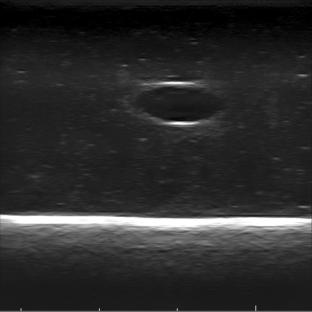vessel: (128, 81, 226, 128)
